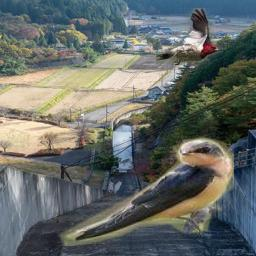Swallow: (57, 133, 234, 246)
Woodpecker: (156, 8, 223, 65)
